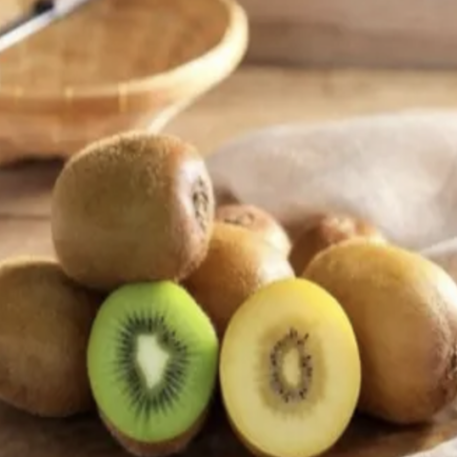kiwi: (290, 209, 456, 452), (38, 126, 227, 284)
